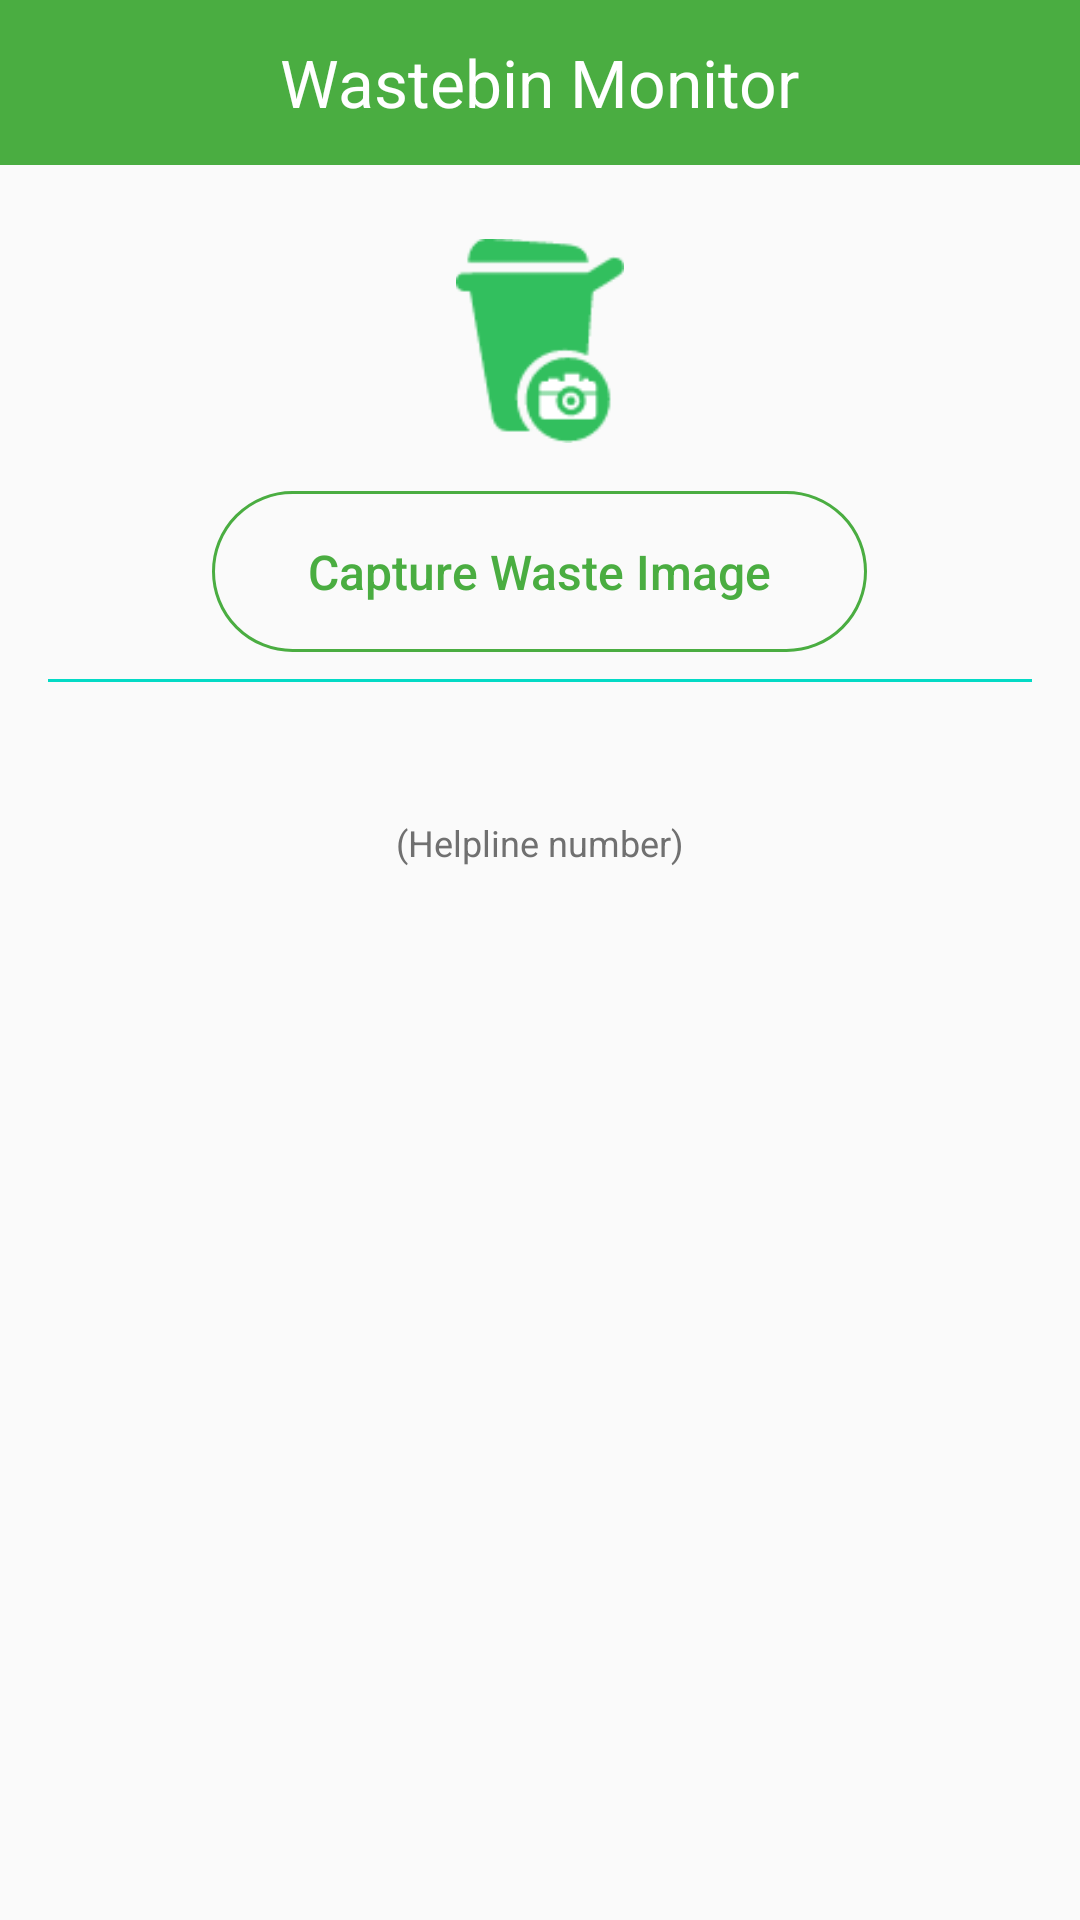

Screen size 1080x1920. Icon name, then its box in pixels as (x1, y1, x2, y2):
dustbin: (456, 239, 624, 443)
